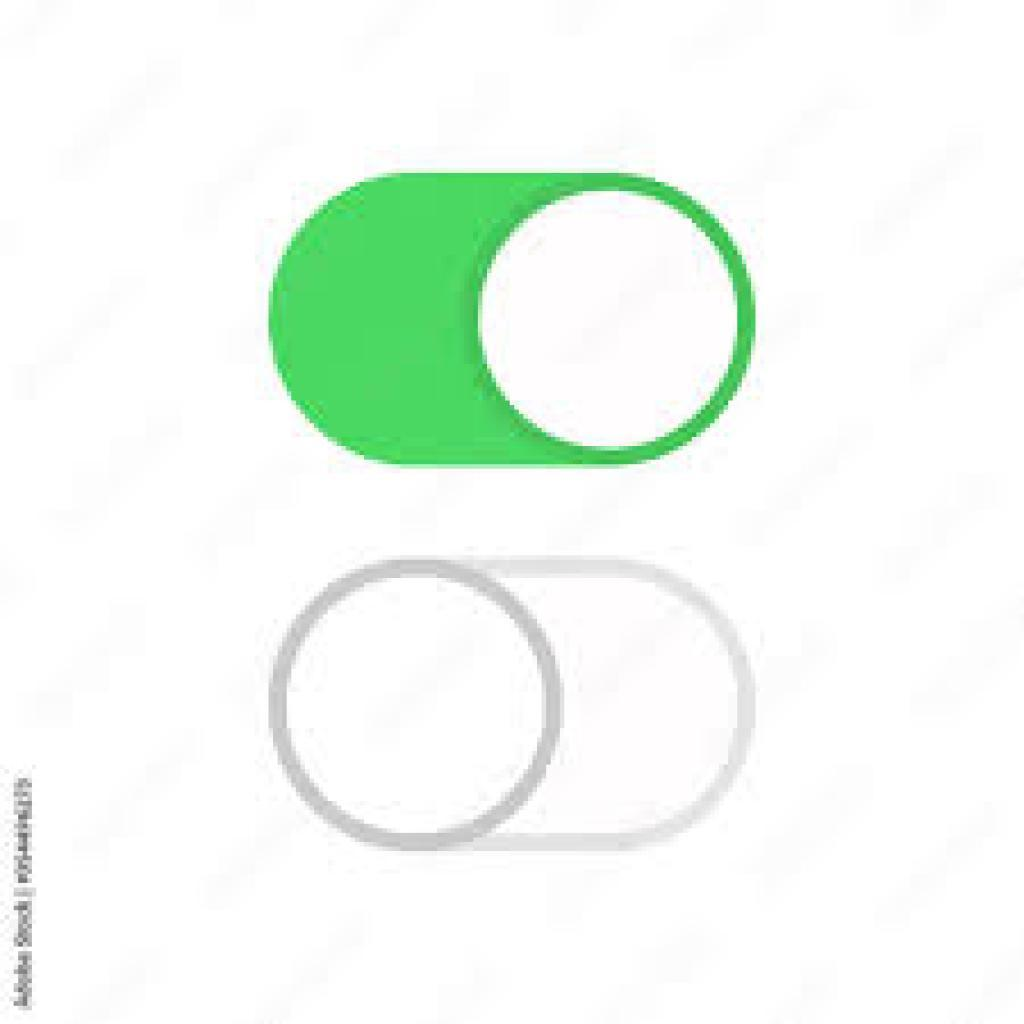switch: (269, 172, 759, 469), (267, 555, 754, 848)
